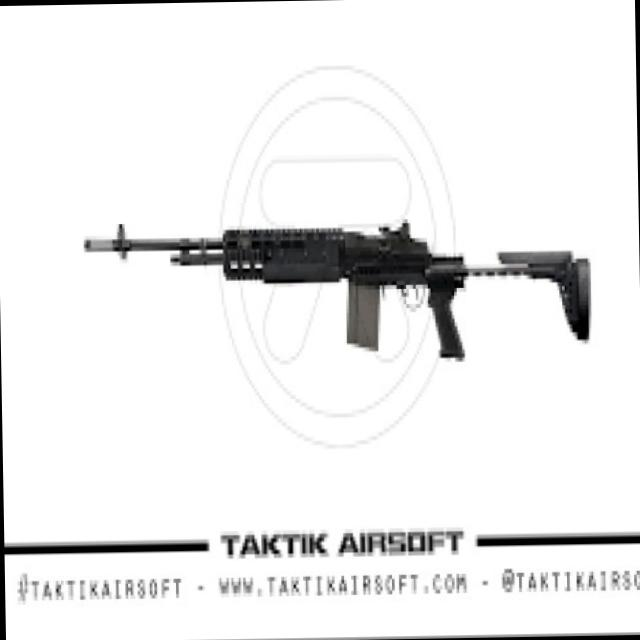Gun: (89, 191, 640, 402)
